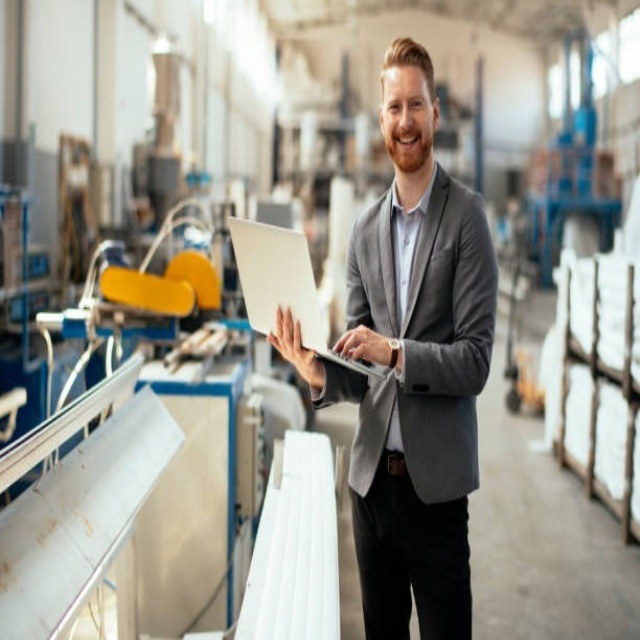Sin_gafas: (383, 89, 428, 115)
Sin_guantes: (266, 306, 320, 375), (334, 324, 392, 370)
Sin_mascara: (392, 130, 421, 160)
